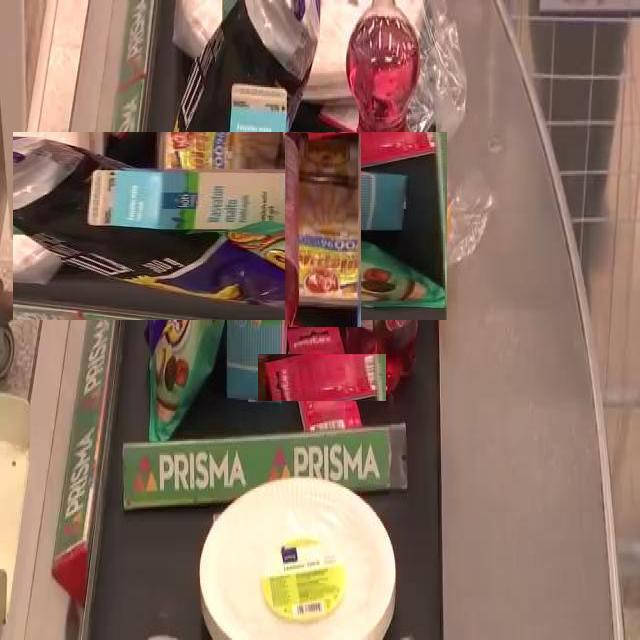beverage: (162, 147, 363, 349), (347, 21, 423, 407)
food-box: (75, 70, 386, 382), (284, 132, 361, 327)
utility-box: (206, 487, 380, 640), (278, 333, 366, 421)
